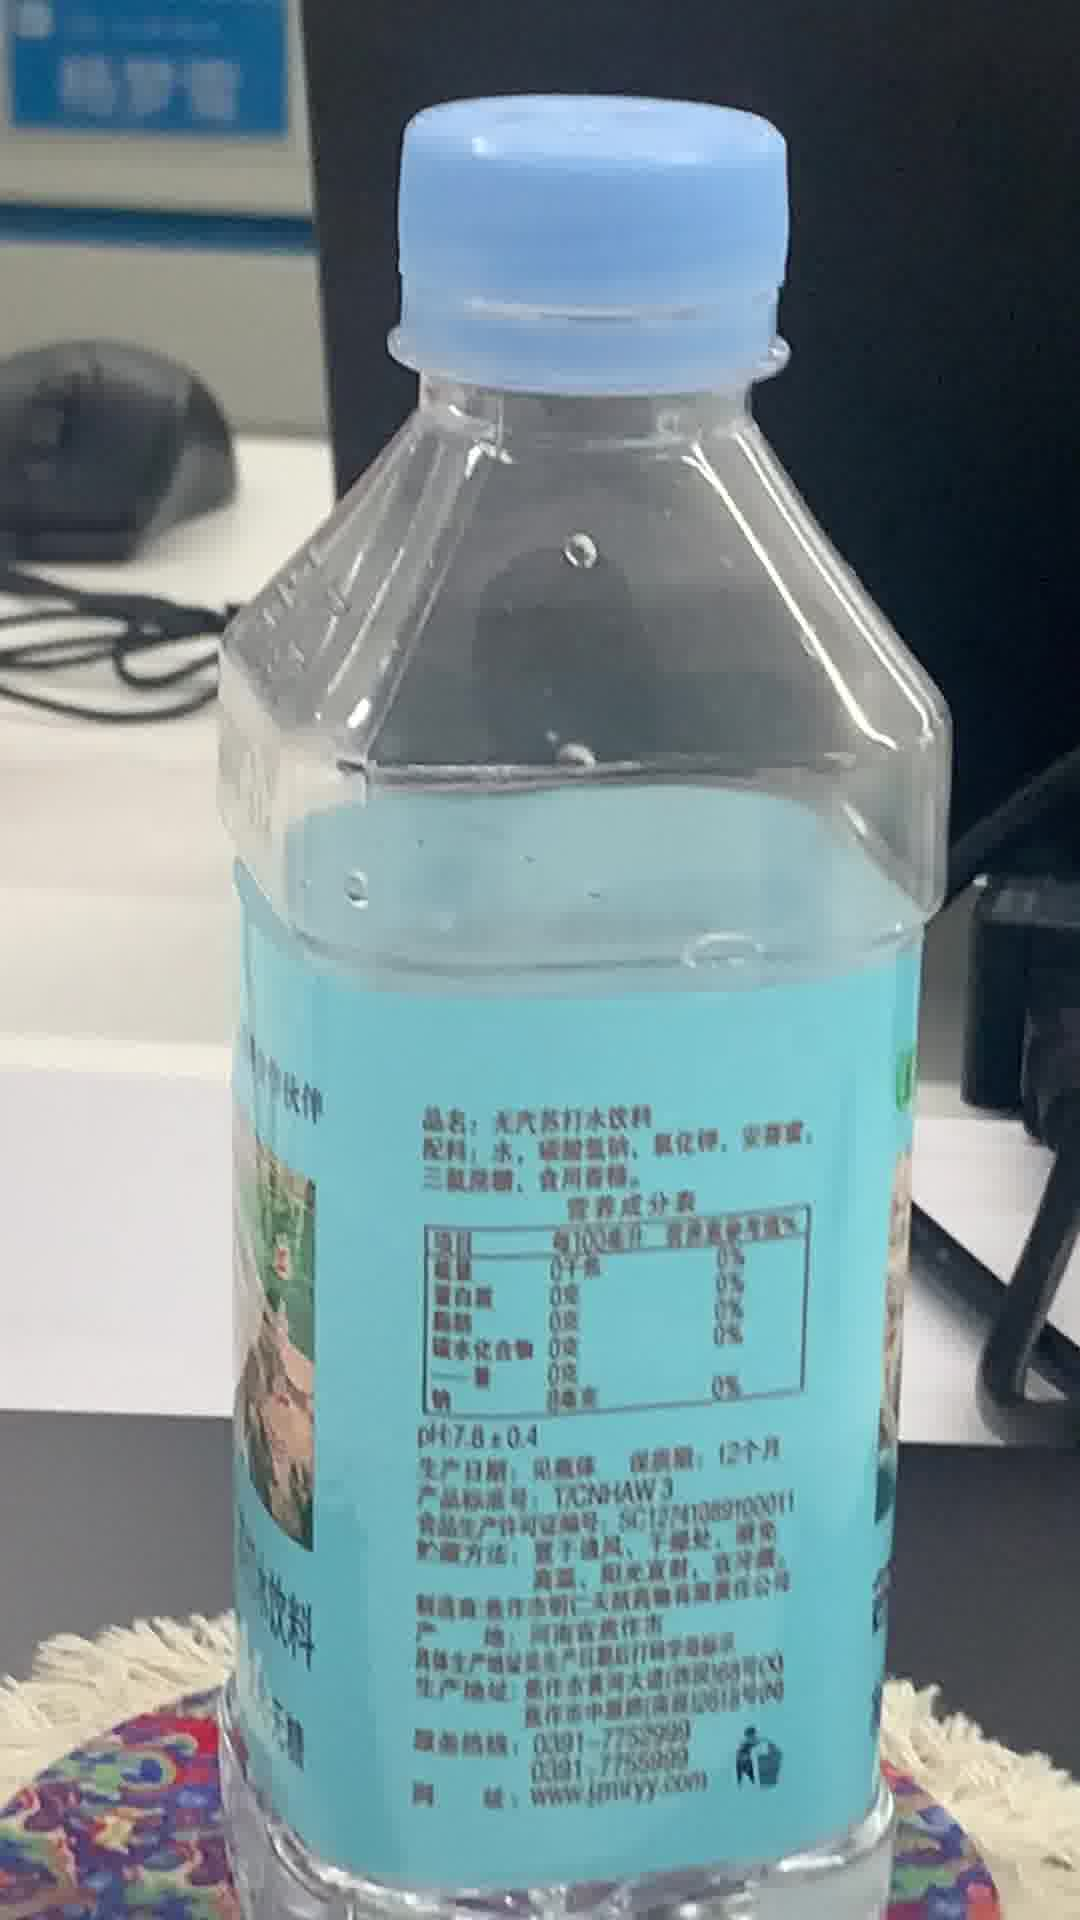水瓶: (175, 71, 907, 1883)
